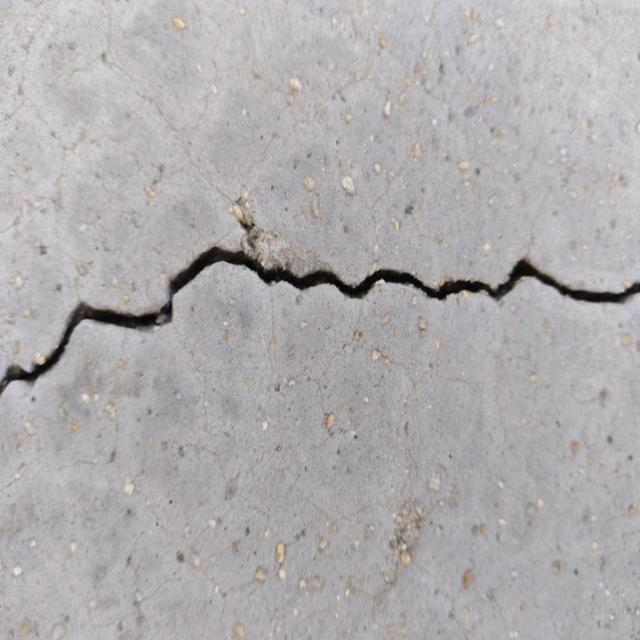horizontal crack: (0, 243, 639, 395)
